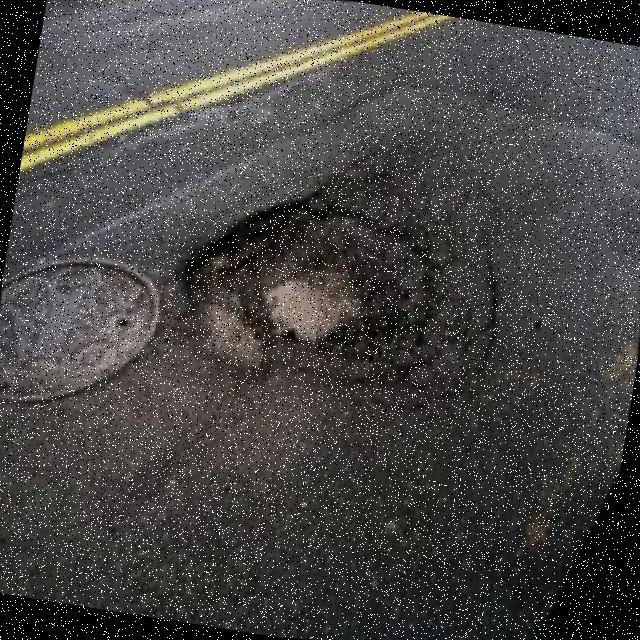Pothole: (182, 176, 490, 399)
